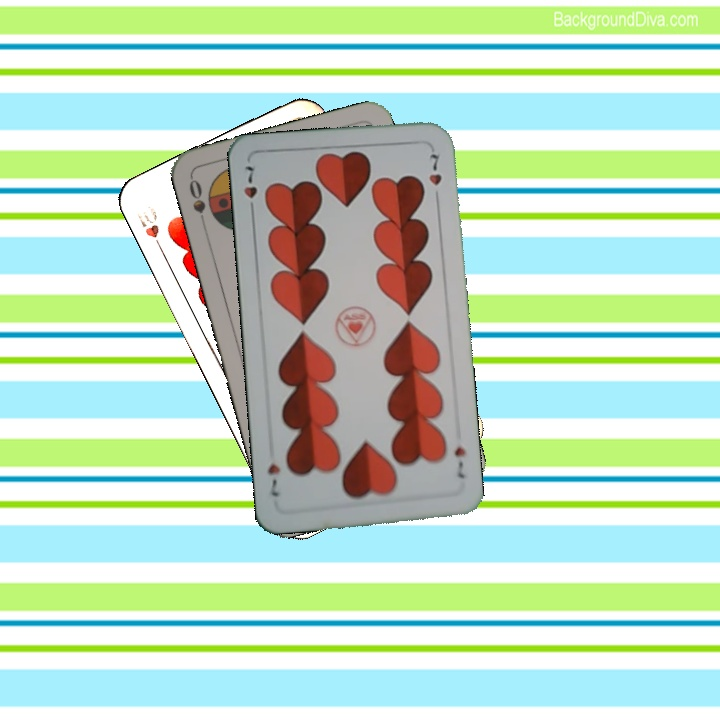H10: (132, 203, 167, 257)
H7: (239, 162, 260, 218), (450, 443, 468, 481)
SO: (185, 174, 209, 233)
